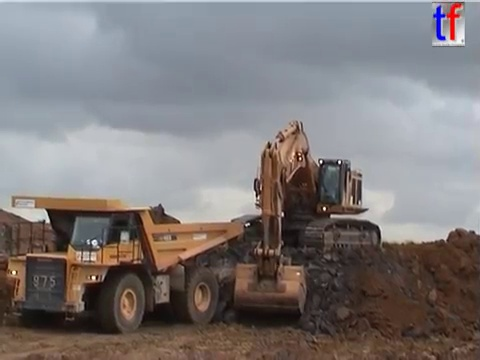excavator: (227, 118, 385, 317)
truck: (1, 193, 247, 336)
